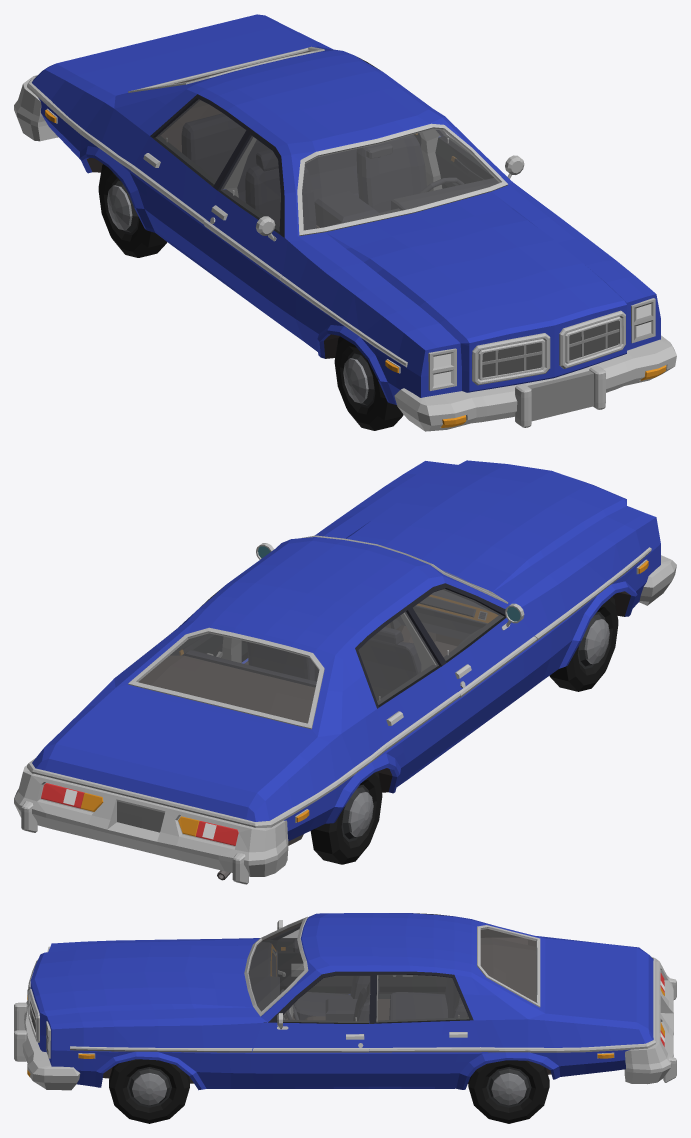
File: CityCar03_LODs.fbx
The picture shows the model from 3 angles, top to bottom: view 1: azimuth 30°, elevation 25°; view 2: azimuth 150°, elevation 25°; view 3: azimuth 270°, elevation 25°; orthographic projection. The views are drawn at different scales.
Parts seen in each view (by area): view 1: CityCar03_LOD0, Door_R_LOD0, DoorRear_R_LOD0, Wheel_FR_LOD0, Wheel_RR_LOD0, Door_L_LOD0; view 2: CityCar03_LOD0, Door_R_LOD0, DoorRear_R_LOD0, Wheel_RR_LOD0, Wheel_FR_LOD0, DoorRear_L_LOD0; view 3: CityCar03_LOD0, Door_L_LOD0, DoorRear_L_LOD0, Wheel_FL_LOD0, Wheel_RL_LOD0, Door_R_LOD0, DoorRear_R_LOD0.
Boxes of the visible parts, x1=… form: CityCar03_LOD0: x1=14, y1=14, x2=676, y2=431; Door_R_LOD0: x1=203, y1=128, x2=287, y2=325; DoorRear_R_LOD0: x1=130, y1=94, x2=249, y2=270; Wheel_FR_LOD0: x1=334, y1=336, x2=403, y2=430; Wheel_RR_LOD0: x1=98, y1=164, x2=167, y2=257; Door_L_LOD0: x1=435, y1=130, x2=524, y2=188; CityCar03_LOD0: x1=14, y1=460, x2=676, y2=884; Door_R_LOD0: x1=408, y1=583, x2=537, y2=744; DoorRear_R_LOD0: x1=355, y1=605, x2=460, y2=784; Wheel_RR_LOD0: x1=310, y1=771, x2=382, y2=864; Wheel_FR_LOD0: x1=549, y1=596, x2=618, y2=691; DoorRear_L_LOD0: x1=170, y1=587, x2=223, y2=657; CityCar03_LOD0: x1=14, y1=913, x2=676, y2=1090; Door_L_LOD0: x1=251, y1=971, x2=374, y2=1086; DoorRear_L_LOD0: x1=369, y1=971, x2=481, y2=1086; Wheel_FL_LOD0: x1=109, y1=1059, x2=189, y2=1123; Wheel_RL_LOD0: x1=468, y1=1060, x2=549, y2=1123; Door_R_LOD0: x1=262, y1=920, x2=353, y2=994; DoorRear_R_LOD0: x1=378, y1=913, x2=449, y2=998.
Size of what is drawn, in the model's own units: 2.05 by 1.41 by 5.82.
